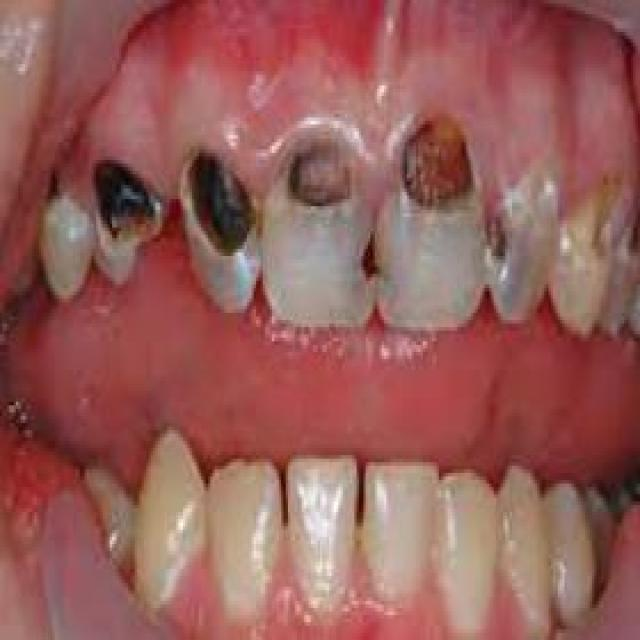caries: (177, 148, 268, 313), (381, 102, 478, 232), (88, 150, 171, 288), (547, 162, 628, 285), (274, 127, 368, 228), (477, 175, 536, 295), (36, 164, 82, 245), (354, 220, 406, 291)
